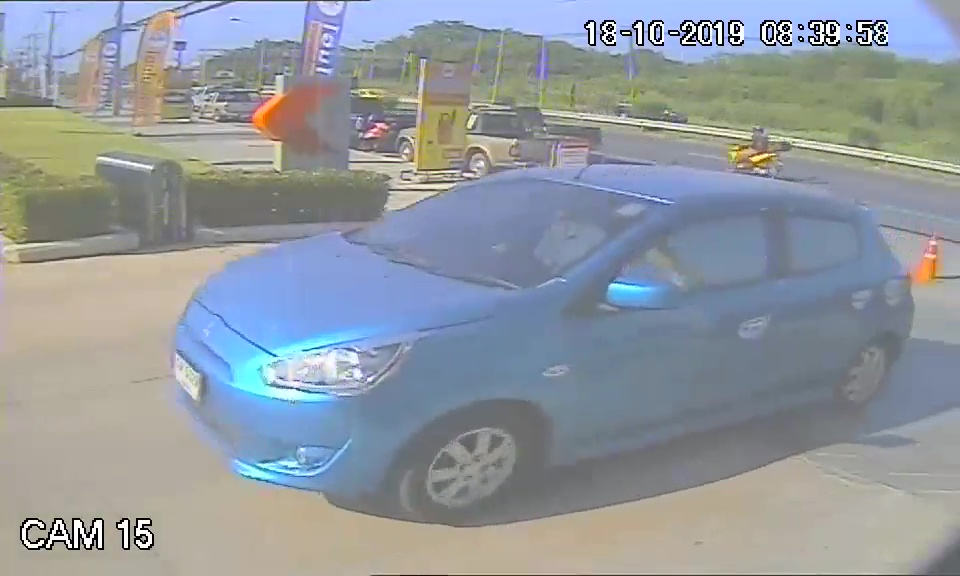sedan: (171, 160, 912, 516)
